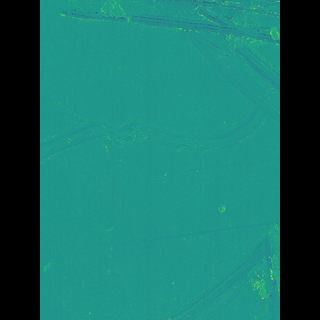Loch: (82, 0, 251, 130), (69, 98, 243, 165), (160, 227, 250, 320), (116, 218, 248, 249)
